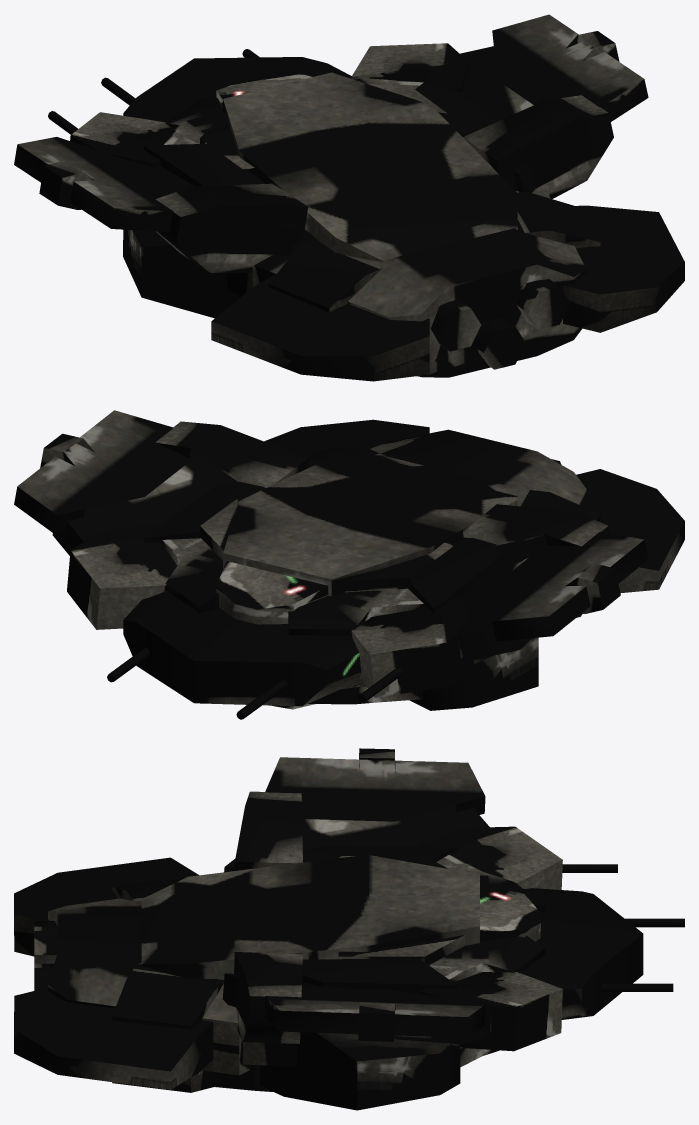
The model's file is ship09e.fbx.
3 renders of one model, top to bottom at view 1: azimuth 30°, elevation 25°; view 2: azimuth 150°, elevation 25°; view 3: azimuth 270°, elevation 25°, orthographic. The views are drawn at different scales.
Parts seen in each view (by area): view 1: PipelineFBX; view 2: PipelineFBX; view 3: PipelineFBX.
Boxes of the visible parts, x1,y1,x2,y2 form: PipelineFBX: (14,14,684,381); PipelineFBX: (14,410,684,719); PipelineFBX: (14,748,684,1110).
Bounding box in the file's own units: 520 × 160 × 547.
Materials: 1 (1 with a texture image).
